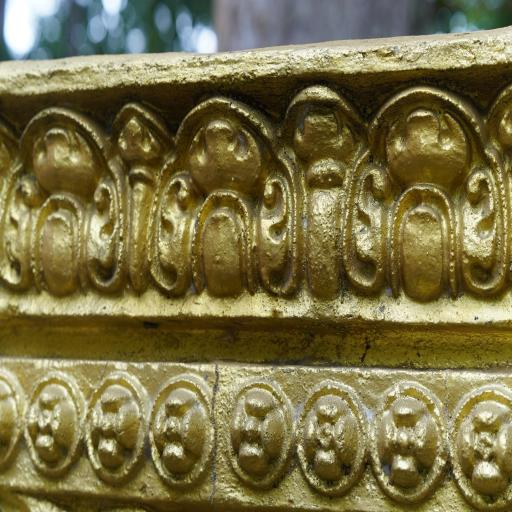hoa: (212, 371, 296, 498), (370, 372, 446, 504), (290, 376, 374, 493), (145, 364, 219, 493), (447, 368, 512, 506), (81, 361, 150, 481), (20, 361, 86, 477), (0, 362, 26, 474)
la: (334, 85, 512, 298), (140, 102, 323, 300), (0, 91, 139, 308)
